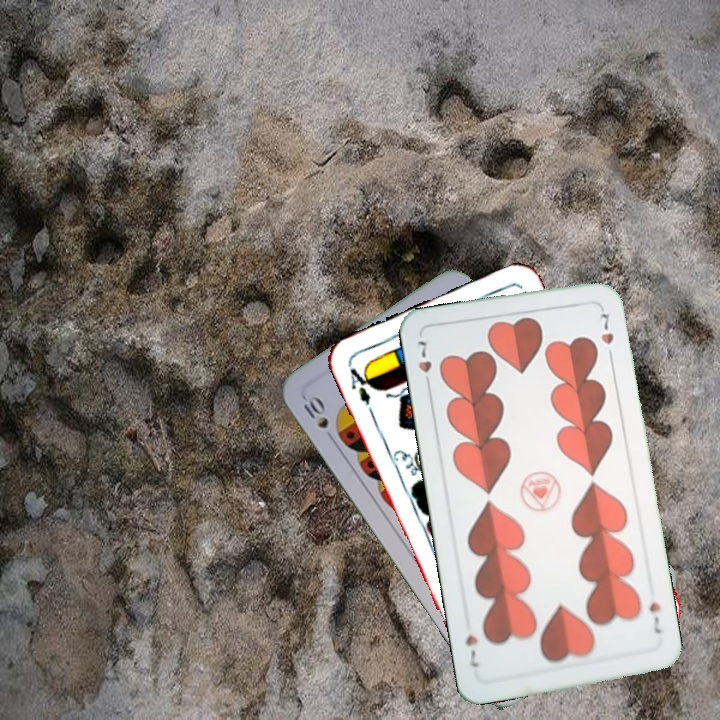EA: (344, 360, 377, 408)
H7: (413, 336, 434, 392), (645, 598, 664, 636)
S10: (299, 391, 338, 446)
